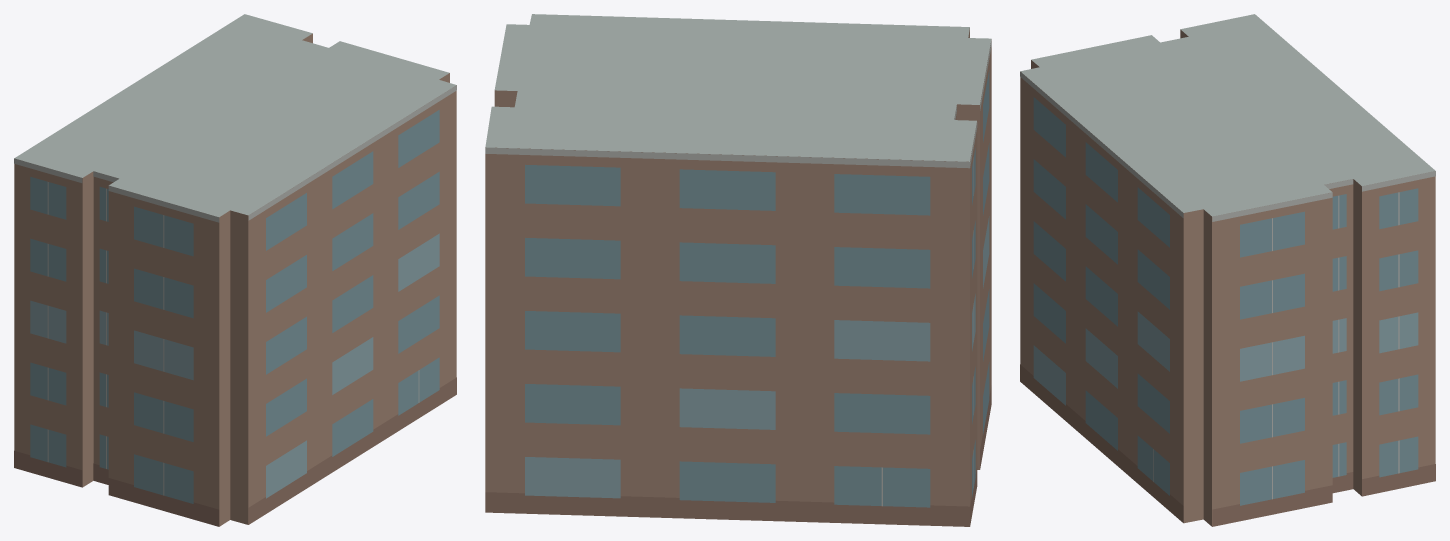
The model's file is survey-upis-33025642.glb.
The picture shows the model from 3 angles, left to right: view 1: azimuth 30°, elevation 25°; view 2: azimuth 150°, elevation 25°; view 3: azimuth 270°, elevation 25°; orthographic projection. The views are drawn at different scales.
Parts seen in each view (by area): view 1: survey-upis-33025642.tmp; view 2: survey-upis-33025642.tmp; view 3: survey-upis-33025642.tmp.
Part boxes in pixels (x1=…): survey-upis-33025642.tmp: x1=14, y1=14, x2=456, y2=526; survey-upis-33025642.tmp: x1=485, y1=14, x2=991, y2=526; survey-upis-33025642.tmp: x1=1020, y1=14, x2=1435, y2=526.
Size of the model in its own units: 19.55 by 13.95 by 16.95.
